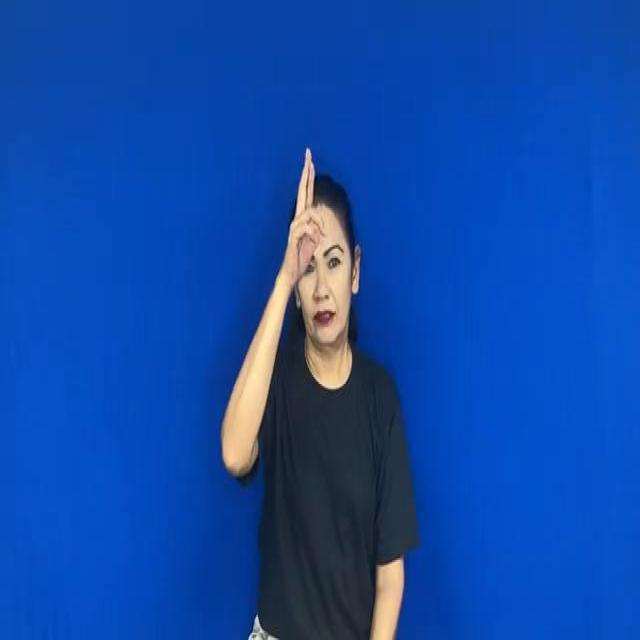crab: (282, 146, 330, 276)
